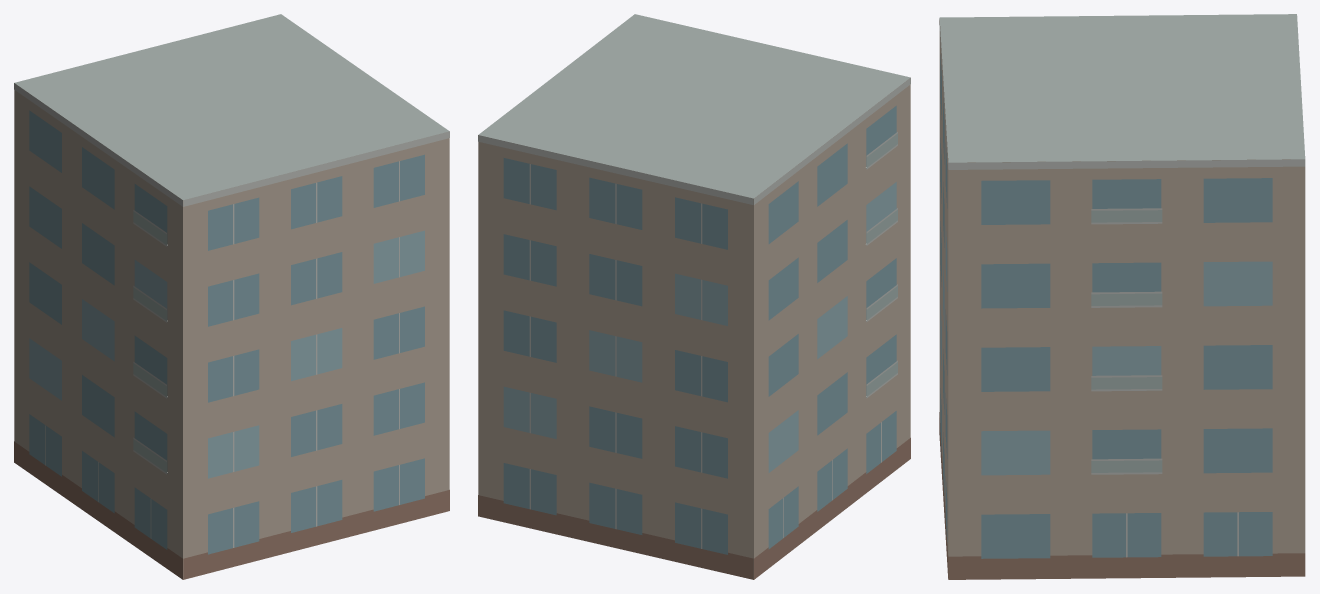
Rendered from survey-upis-32530079.glb.
3 views of the same model, side by side, from view 1: azimuth 30°, elevation 25°; view 2: azimuth 150°, elevation 25°; view 3: azimuth 270°, elevation 25° (orthographic). The views are drawn at different scales.
Visible parts, largest first — view 1: survey-upis-32530079.tmp; view 2: survey-upis-32530079.tmp; view 3: survey-upis-32530079.tmp.
Boxes of the visible parts, x1,y1,x2,y2 form: survey-upis-32530079.tmp: (14, 14, 449, 579); survey-upis-32530079.tmp: (478, 14, 910, 579); survey-upis-32530079.tmp: (939, 14, 1305, 579).
Size of the model in its own units: 10.55 by 13.8 by 10.97.
